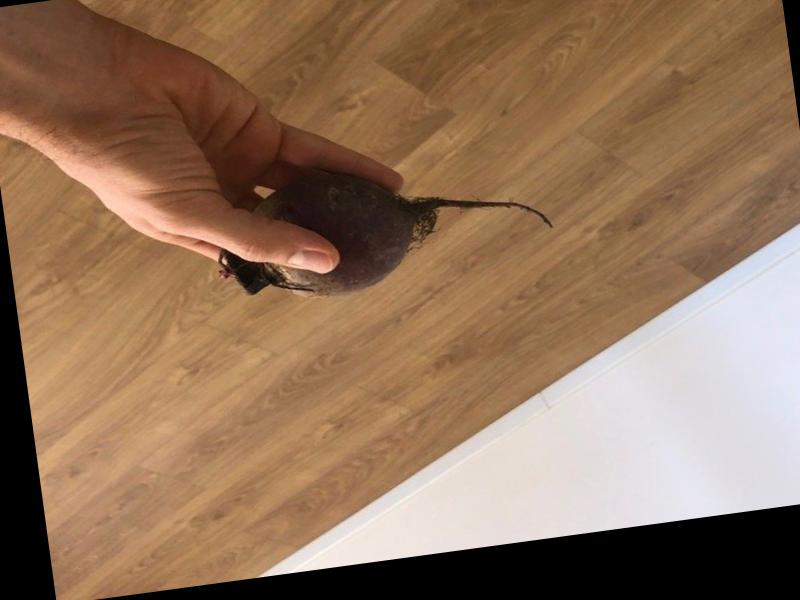Beet: (209, 145, 558, 309)
